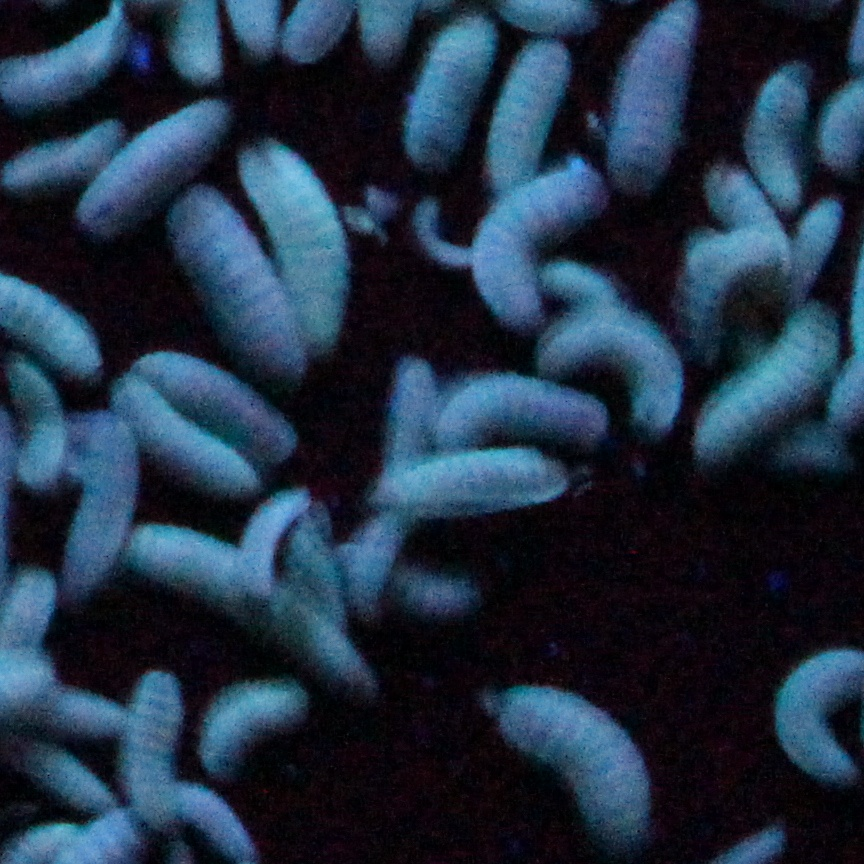larve: (482, 672, 660, 847), (687, 289, 844, 463), (232, 126, 351, 352), (471, 152, 616, 333), (72, 94, 240, 241), (125, 340, 311, 469), (422, 344, 606, 464), (363, 452, 579, 526), (58, 408, 143, 594), (402, 8, 500, 168), (482, 35, 576, 189), (740, 48, 816, 223), (119, 663, 186, 837), (189, 684, 310, 779), (235, 478, 312, 603), (0, 121, 129, 192)
